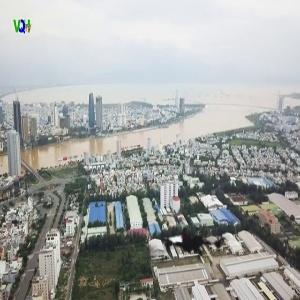drone: (148, 190, 245, 287)
